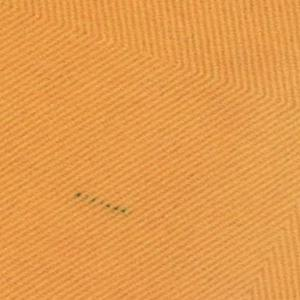stain: (71, 188, 134, 220)
